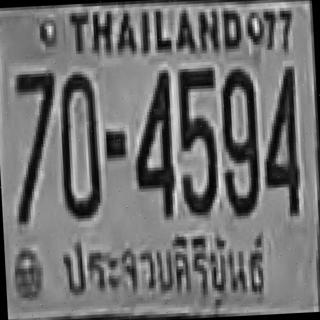N00: (56, 71, 101, 216), (218, 66, 256, 158)
N04: (128, 67, 176, 216), (258, 65, 300, 213)
N05: (175, 65, 216, 152)
N07: (15, 70, 57, 160), (15, 70, 56, 151)
N09: (218, 70, 260, 215)
P50: (56, 226, 272, 310)
